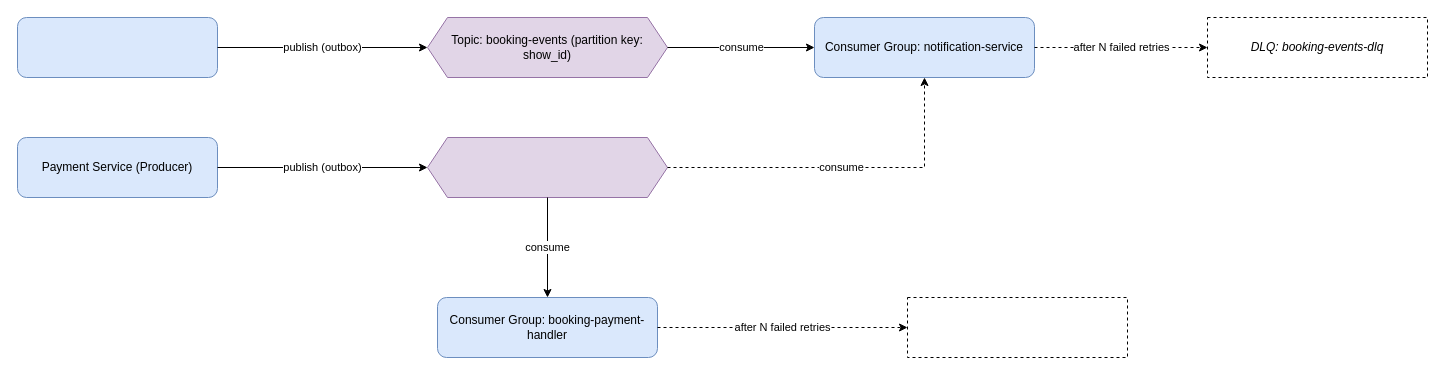
Some shapes in this 1445 by 375 pixel diagram are drawn without their labels. The shapes that lost their labels are listed below. From the top down, each one's box as (x1, y1, x2, y2) in pixels, then its label:
(16, 16, 218, 78): Booking Service (Producer)
(426, 136, 668, 198): Topic: payment-events (partition key: booking_id)
(906, 296, 1128, 358): DLQ: payment-events-dlq
